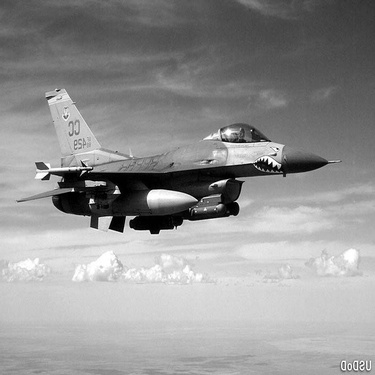airplane: (12, 69, 351, 251)
